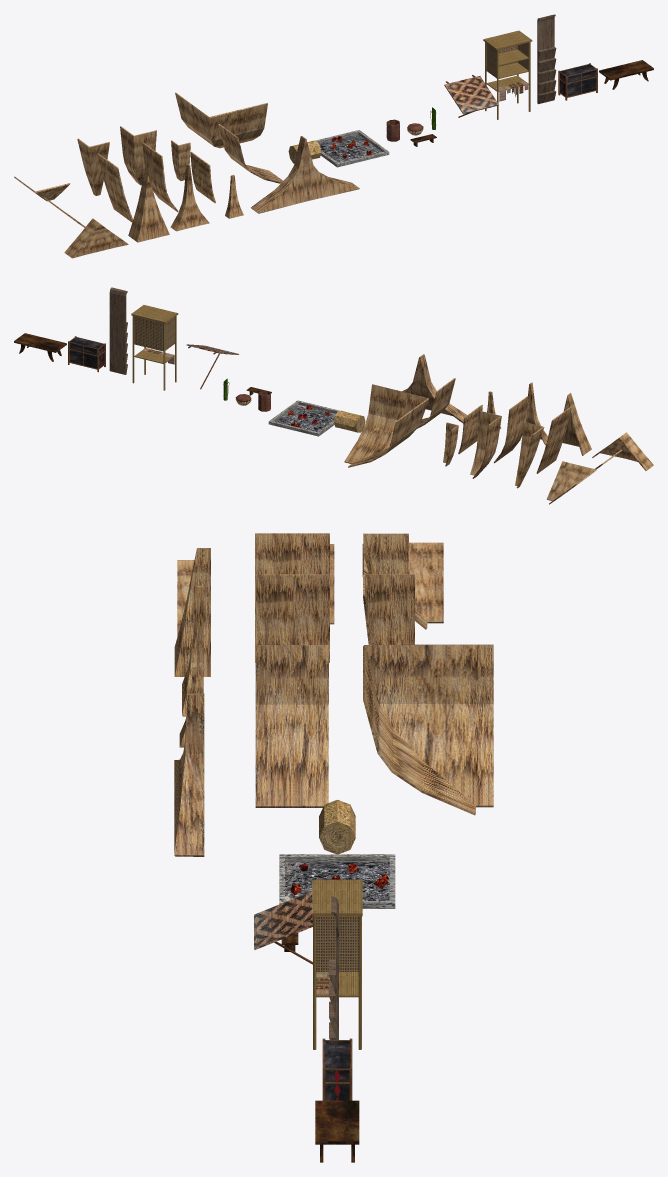
File: NhaSan.fbx
3 renders of one model, top to bottom at view 1: azimuth 30°, elevation 25°; view 2: azimuth 150°, elevation 25°; view 3: azimuth 270°, elevation 25°, orthographic. The views are drawn at different scales.
Visible parts, largest first — view 1: TuNhaSan, VatNhaSan1, BepTroLua, GocNhaSan1_L, ThangLeo, KeoCua, VatNhaSan3, TuTuGiac, GocNhaSan1_R, GocNhaSan4_L, VatNhaSan4, MaiNhaSan4 (+10 smaller); view 2: VatNhaSan1, TuNhaSan, BepTroLua, ThangLeo, VatNhaSan3, TuTuGiac, VatNhaSan5, VatNhaSan4, MaiNhaSan4, MaiNhaSan3, BanGo, GocNhaSan1_L (+8 smaller); view 3: VatNhaSan1, MaiNhaSan1, TuNhaSan, MaiNhaSan3, BepTroLua, GocNhaSan1_R, VatNhaSan3, MaiNhaSan4, VatNhaSan5, GocNhaSan4_R, KeoCua, BanGo (+5 smaller).
Boxes of the visible parts, x1,y1,x2,y2 form: TuNhaSan: [483, 30, 532, 119]; VatNhaSan1: [175, 92, 267, 148]; BepTroLua: [316, 130, 389, 167]; GocNhaSan1_L: [251, 136, 309, 213]; ThangLeo: [537, 14, 556, 104]; KeoCua: [444, 75, 498, 117]; VatNhaSan3: [120, 126, 156, 185]; TuTuGiac: [558, 63, 597, 100]; GocNhaSan1_R: [302, 136, 359, 200]; GocNhaSan4_L: [128, 173, 153, 242]; VatNhaSan4: [77, 138, 109, 195]; MaiNhaSan4: [97, 153, 132, 222]; VatNhaSan1: [344, 384, 428, 467]; TuNhaSan: [131, 305, 178, 390]; BepTroLua: [268, 400, 338, 436]; ThangLeo: [109, 287, 127, 374]; VatNhaSan3: [470, 410, 501, 478]; TuTuGiac: [68, 336, 105, 372]; VatNhaSan5: [546, 461, 596, 504]; VatNhaSan4: [515, 422, 544, 488]; MaiNhaSan4: [536, 406, 571, 473]; MaiNhaSan3: [494, 396, 528, 463]; BanGo: [14, 333, 66, 361]; GocNhaSan1_L: [419, 354, 466, 423]; VatNhaSan1: [363, 644, 493, 815]; MaiNhaSan1: [255, 645, 328, 807]; TuNhaSan: [312, 879, 362, 1049]; MaiNhaSan3: [256, 574, 328, 704]; BepTroLua: [279, 854, 395, 908]; GocNhaSan1_R: [174, 693, 204, 856]; VatNhaSan3: [363, 574, 414, 644]; MaiNhaSan4: [255, 533, 329, 662]; VatNhaSan5: [362, 542, 443, 629]; GocNhaSan4_R: [174, 548, 210, 676]; KeoCua: [254, 891, 312, 964]; BanGo: [315, 1100, 359, 1162].
Size of the model in its own units: 16600 by 2241 by 3864.
10 materials, 10 textured.
